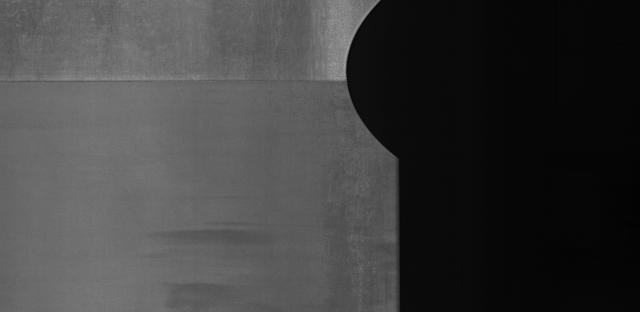crescent_gap: (332, 0, 416, 166)
welding_line: (3, 71, 350, 91)
